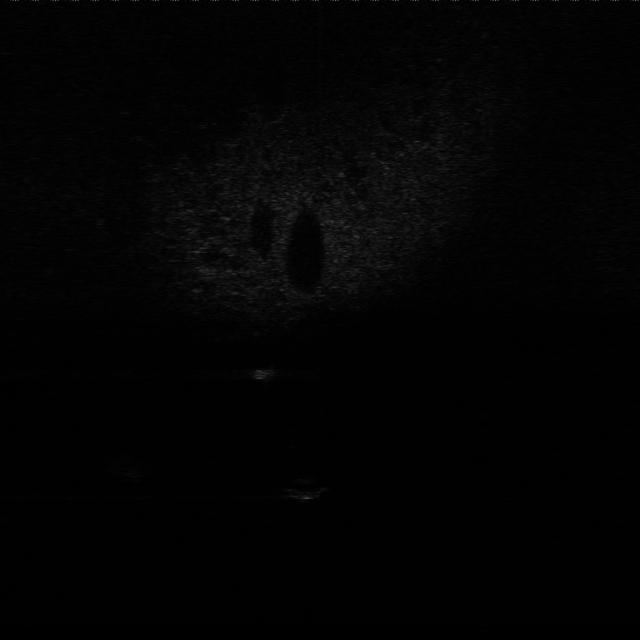ball: (278, 472, 332, 504)
cube: (246, 361, 280, 383)
